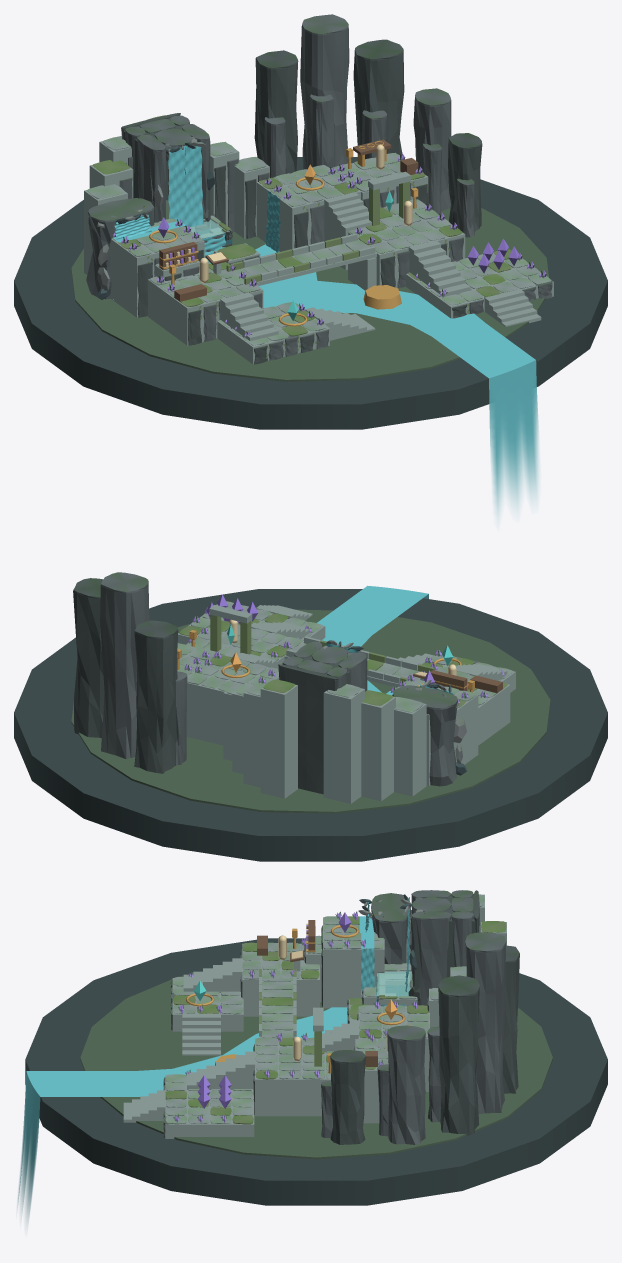
Rendered from falls-layout-medium.glb.
The picture shows the model from 3 angles, top to bottom: view 1: azimuth 30°, elevation 25°; view 2: azimuth 150°, elevation 25°; view 3: azimuth 270°, elevation 25°; orthographic projection.
Parts seen in each view (by area): view 1: foundation-guide, lower-field-guide, object 3, object 4, falls-rear-pillar-1, falls-rear-pillar-0, falls-rear-pillar-2, falls-rear-pillar-3, cliff-mass, falls-rear-pillar-4, falls-terrain-reading-terrace, falls-terrain-moon-shrine (+19 smaller); view 2: foundation-guide, lower-field-guide, falls-rear-pillar-1, falls-rear-pillar-2, falls-rear-pillar-0, falls-terrain-western-crown-4, falls-terrain-eastern-crown-4, cave-back, object 3, falls-terrain-western-crown-3, cliff-mass, falls-terrain-western-crown-2 (+12 smaller); view 3: foundation-guide, lower-field-guide, falls-rear-pillar-0, falls-rear-pillar-1, object 3, falls-rear-pillar-3, falls-rear-pillar-4, falls-terrain-keeper-terrace, cave-pillar-1, falls-terrain-moon-shrine, falls-rear-pillar-2, cliff-mass (+14 smaller).
Part boxes in pixels (bbox=[...]): foundation-guide: bbox=[14, 157, 607, 429]; lower-field-guide: bbox=[71, 207, 548, 381]; object 3: bbox=[113, 244, 535, 378]; object 4: bbox=[489, 360, 538, 517]; falls-rear-pillar-1: bbox=[300, 14, 349, 169]; falls-rear-pillar-0: bbox=[353, 39, 404, 156]; falls-rear-pillar-2: bbox=[254, 50, 298, 173]; falls-rear-pillar-3: bbox=[413, 88, 451, 211]; cliff-mass: bbox=[86, 198, 154, 299]; falls-rear-pillar-4: bbox=[448, 133, 482, 231]; falls-terrain-reading-terrace: bbox=[148, 269, 263, 345]; falls-terrain-moon-shrine: bbox=[110, 222, 204, 317]; foundation-guide: bbox=[14, 589, 607, 861]; lower-field-guide: bbox=[71, 609, 550, 813]; falls-rear-pillar-1: bbox=[100, 572, 149, 759]; falls-rear-pillar-2: bbox=[134, 620, 178, 773]; falls-rear-pillar-0: bbox=[73, 578, 104, 737]; falls-terrain-western-crown-4: bbox=[323, 688, 364, 803]; falls-terrain-eastern-crown-4: bbox=[260, 679, 297, 798]; cave-back: bbox=[278, 664, 337, 794]; object 3: bbox=[317, 585, 428, 692]; falls-terrain-western-crown-3: bbox=[361, 696, 395, 801]; cliff-mass: bbox=[392, 685, 457, 786]; falls-terrain-western-crown-2: bbox=[394, 697, 426, 796]; foundation-guide: bbox=[25, 938, 607, 1205]; lower-field-guide: bbox=[80, 974, 552, 1159]; falls-rear-pillar-0: bbox=[438, 975, 479, 1135]; falls-rear-pillar-1: bbox=[465, 932, 506, 1113]; object 3: bbox=[26, 1007, 347, 1096]; falls-rear-pillar-3: bbox=[387, 1025, 425, 1144]; falls-rear-pillar-4: bbox=[330, 1050, 366, 1144]; falls-terrain-keeper-terrace: bbox=[255, 1038, 330, 1116]; cave-pillar-1: bbox=[411, 911, 451, 1005]; falls-terrain-moon-shrine: bbox=[323, 917, 384, 1008]; falls-rear-pillar-2: bbox=[502, 945, 519, 1093]; cliff-mass: bbox=[371, 893, 411, 964].
Size of the model in its own units: 35.45 by 21.93 by 36.7.
